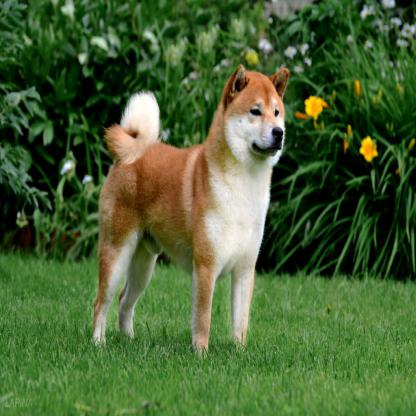Siba-ny: (90, 62, 292, 351)
